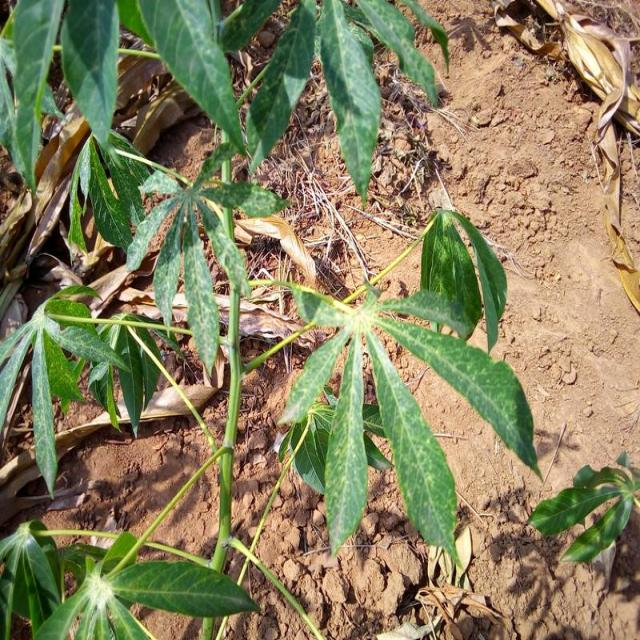cassava leaf: (271, 209, 541, 568), (318, 0, 382, 202)
